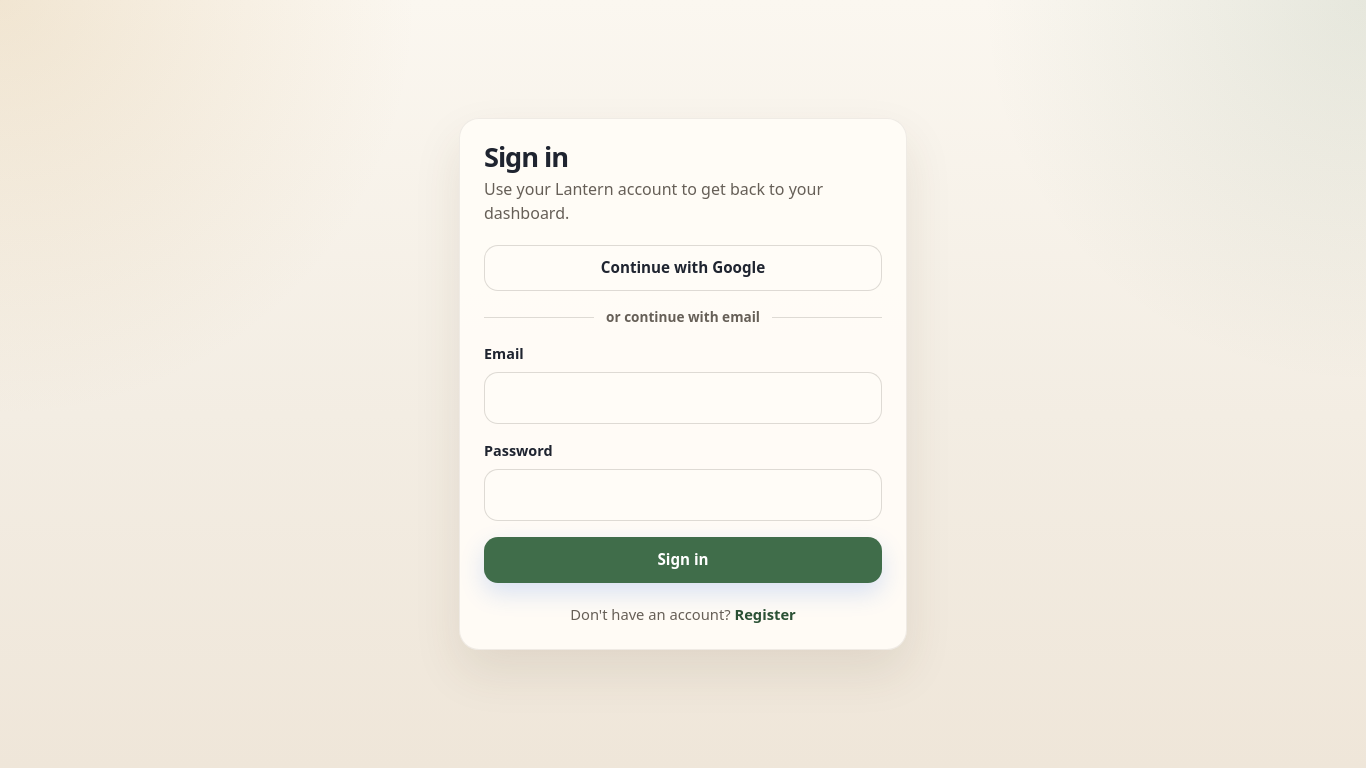
Scenario: LoginPage › shows provider errors
Click the button "Continue with Google" at (683, 268), box [484, 245, 882, 291]
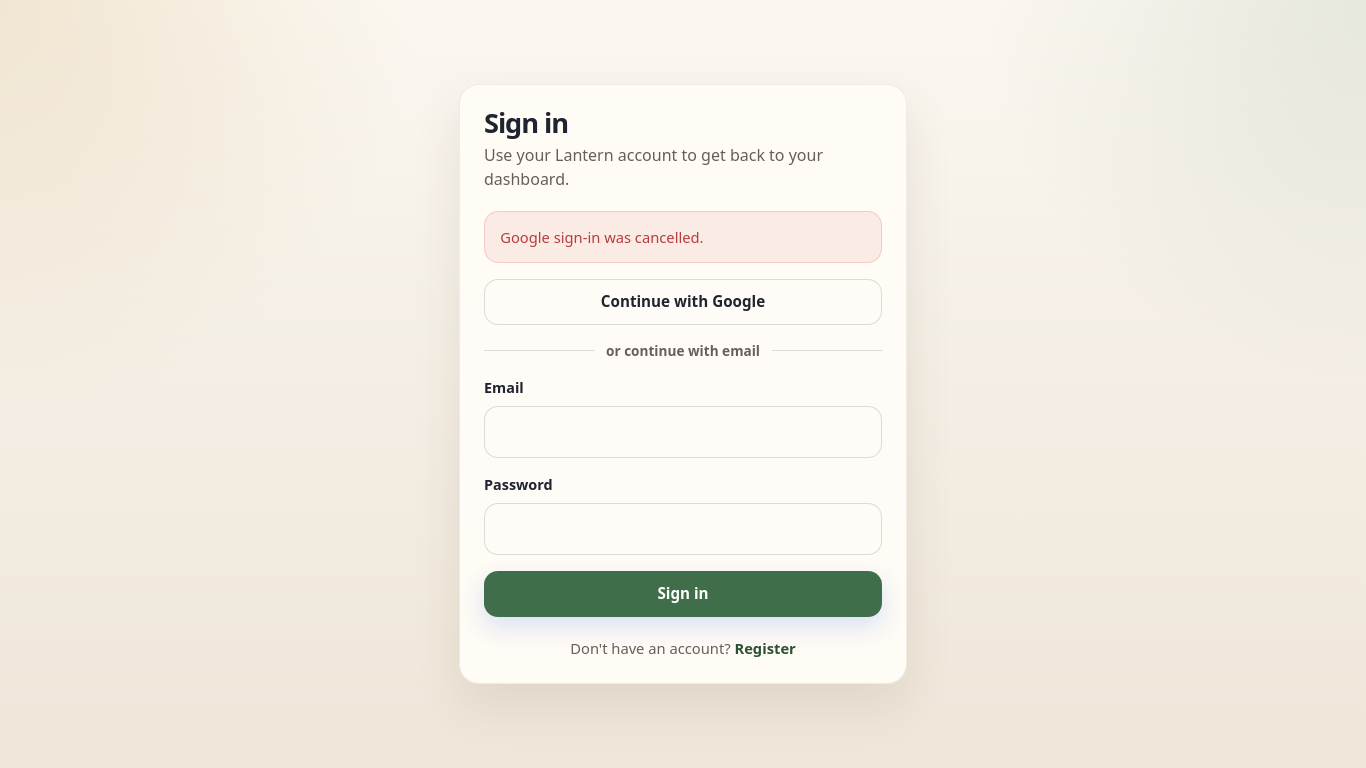
Check: the text "Google sign-in was cancelled." is shown, box [484, 211, 882, 263]
